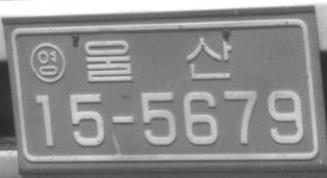-: (110, 112, 136, 125)
1: (29, 93, 61, 146)
5: (139, 90, 176, 146), (68, 92, 105, 147)
6: (182, 89, 218, 145)
7: (222, 89, 259, 144)
9: (266, 88, 303, 144)
영: (29, 42, 65, 83)
울산_D: (85, 36, 232, 82)
